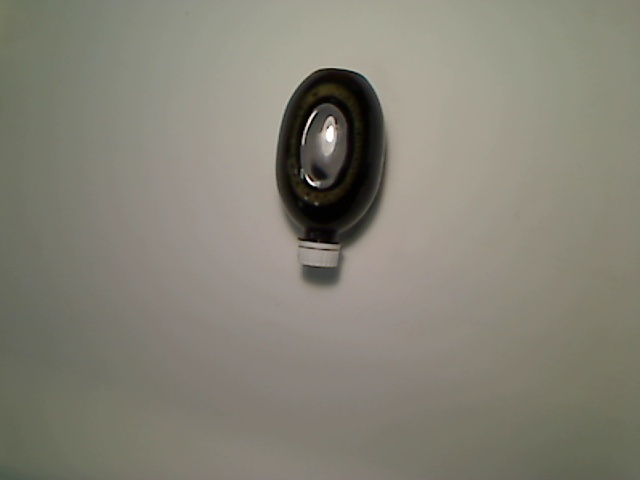plast_bottle: (273, 67, 388, 270)
